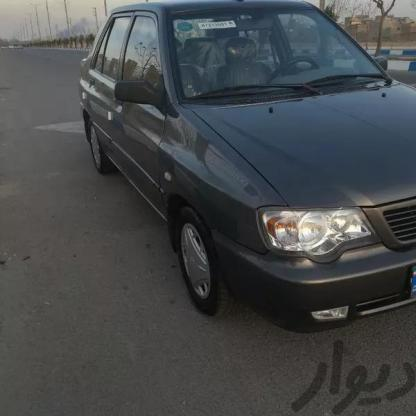Car: (72, 0, 416, 337)
